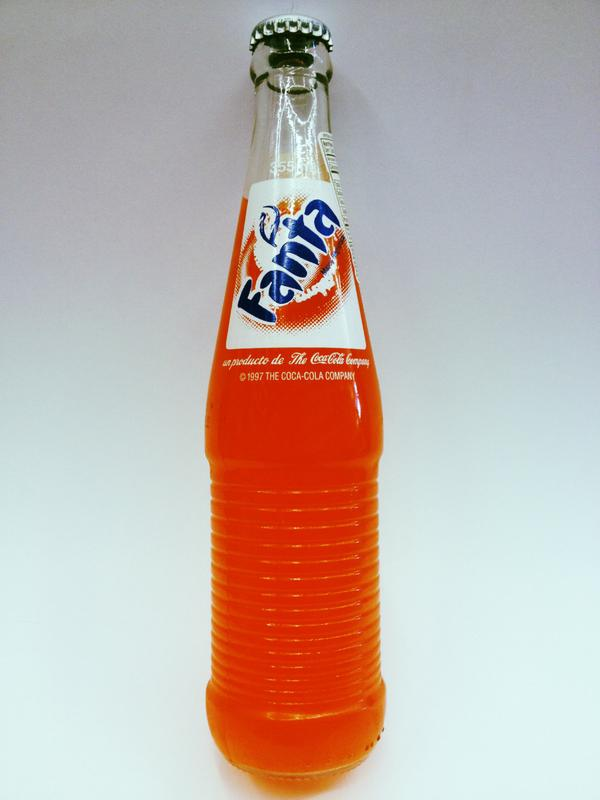Fanta: (201, 5, 401, 785)
